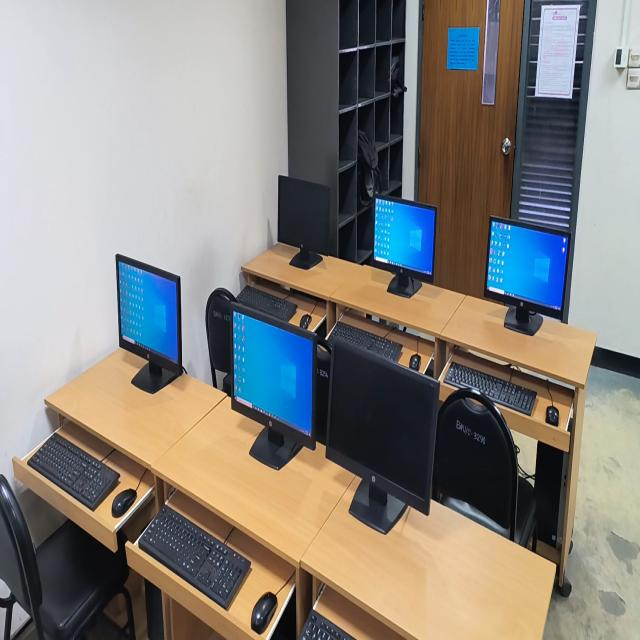Chair: (0, 474, 134, 639), (433, 389, 536, 547), (206, 289, 235, 388), (316, 343, 331, 444)
Cpu: (534, 441, 569, 550)
Keyboard: (139, 505, 250, 609), (27, 433, 120, 510), (444, 362, 537, 415), (328, 322, 403, 363), (236, 286, 297, 322), (300, 609, 355, 639)
Monitor: (325, 338, 439, 533), (231, 303, 318, 470), (484, 217, 570, 334), (116, 254, 183, 393), (373, 194, 436, 297), (277, 175, 330, 269)
Mouse: (251, 593, 277, 633), (111, 488, 137, 517), (546, 405, 559, 425), (409, 353, 421, 371), (299, 313, 312, 329)
